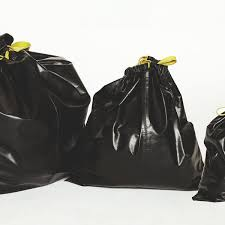Trash: (67, 54, 203, 194)
